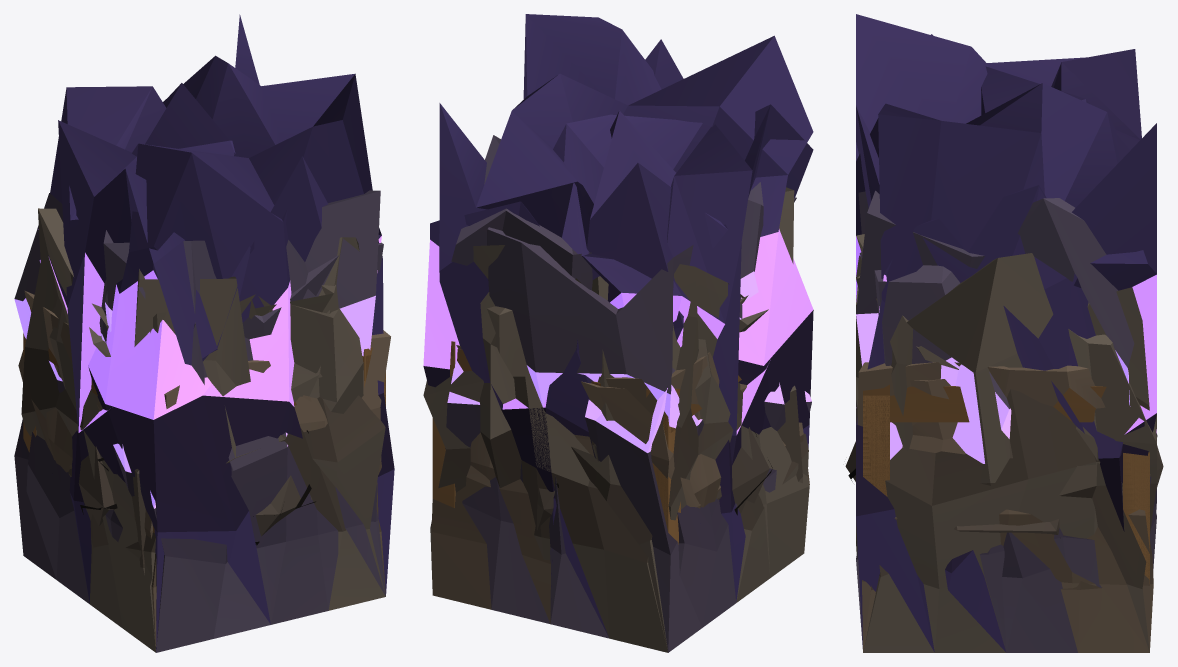
Rendered from MineKit.glb.
3 views of the same model, side by side, from view 1: azimuth 30°, elevation 25°; view 2: azimuth 150°, elevation 25°; view 3: azimuth 270°, elevation 25° (orthographic). The views are drawn at different scales.
Visible parts, largest first — view 1: wall_breach_b, wall_passage_b, wall_breach_a, wall_rock_b, wall_passage_a, wall_rock_c, wall_rock_a, wall_worked_b, wall_worked_a, ore_rock_a, ore_rock_b; view 2: wall_breach_b, wall_passage_a, wall_breach_a, wall_rock_a, wall_passage_b, wall_worked_a, wall_rock_b, wall_rock_c, wall_worked_b, ore_rock_a; view 3: wall_breach_b, wall_rock_b, wall_rock_c, wall_breach_a, wall_passage_b, wall_worked_b, wall_passage_a, wall_worked_a, wall_rock_a, ore_rock_b.
Part boxes in pixels (x1,y1,x2,y2): wall_breach_b: (39, 14, 394, 651); wall_passage_b: (14, 190, 385, 624); wall_breach_a: (38, 83, 381, 482); wall_rock_b: (21, 208, 385, 652); wall_passage_a: (14, 193, 385, 652); wall_rock_c: (89, 237, 385, 628); wall_rock_a: (49, 294, 363, 574); wall_worked_b: (23, 290, 390, 648); wall_worked_a: (18, 333, 385, 538); ore_rock_a: (68, 446, 114, 526); ore_rock_b: (255, 475, 312, 536); wall_breach_b: (439, 14, 813, 636); wall_passage_a: (445, 197, 811, 638); wall_breach_a: (423, 39, 813, 523); wall_rock_a: (423, 306, 802, 652); wall_passage_b: (451, 135, 785, 652); wall_worked_a: (431, 345, 803, 623); wall_rock_b: (473, 245, 809, 577); wall_rock_c: (479, 187, 808, 650); wall_worked_b: (433, 341, 809, 544); ore_rock_a: (537, 427, 769, 530); wall_breach_b: (856, 14, 1156, 651); wall_rock_b: (856, 255, 1150, 652); wall_rock_c: (856, 234, 1156, 652); wall_breach_a: (856, 34, 1156, 652); wall_passage_b: (856, 190, 1156, 651); wall_worked_b: (857, 362, 1149, 652); wall_passage_a: (856, 252, 1156, 652); wall_worked_a: (863, 379, 1153, 652); wall_rock_a: (856, 286, 1156, 651); ore_rock_b: (845, 441, 1059, 534).
Size of the model in its own units: 3.48 by 6.72 by 3.58.
